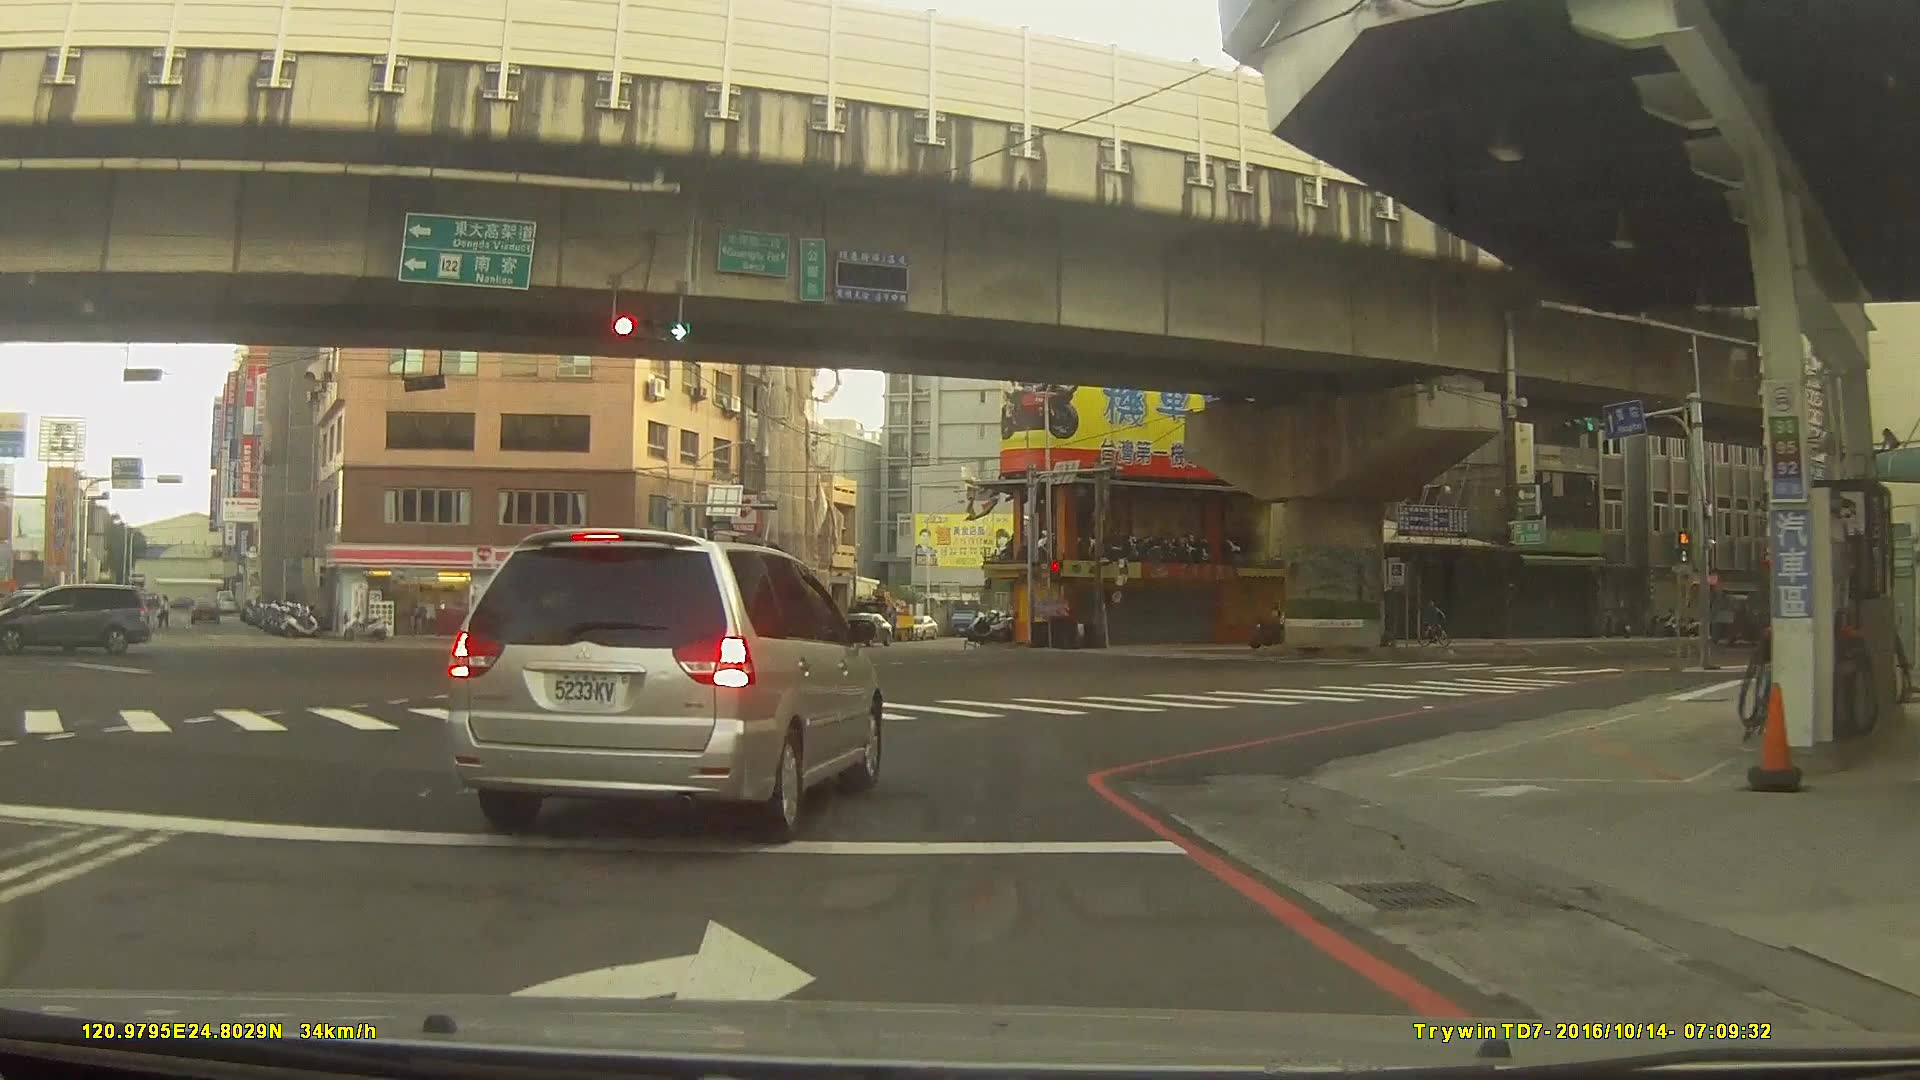rider: (1251, 601, 1296, 651)
vehicle: (449, 526, 883, 844), (0, 581, 150, 654), (1710, 585, 1782, 649), (828, 615, 891, 651), (543, 606, 605, 633), (187, 594, 220, 625)
